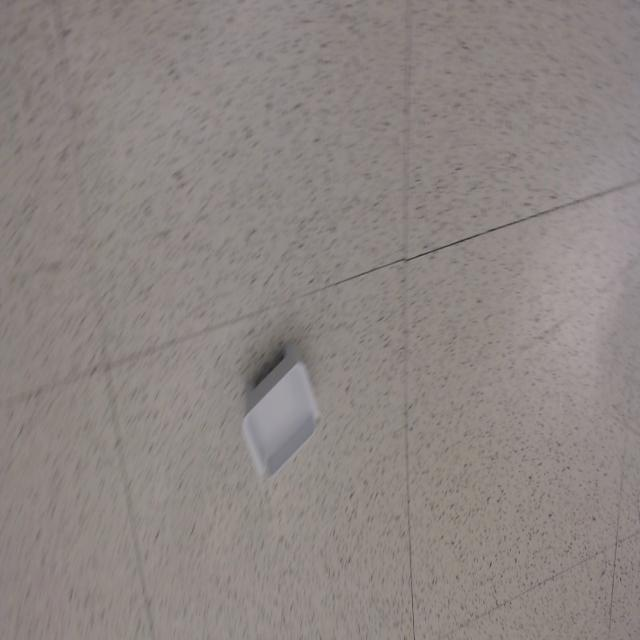wbox: (240, 338, 322, 482)
